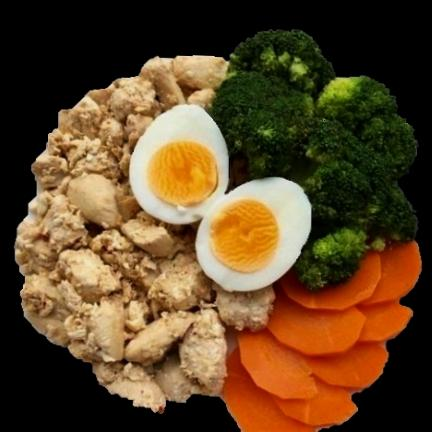broccoli: (209, 31, 417, 290)
carrot: (223, 242, 420, 431)
chicken: (14, 55, 273, 412)
egg: (129, 105, 310, 291)
